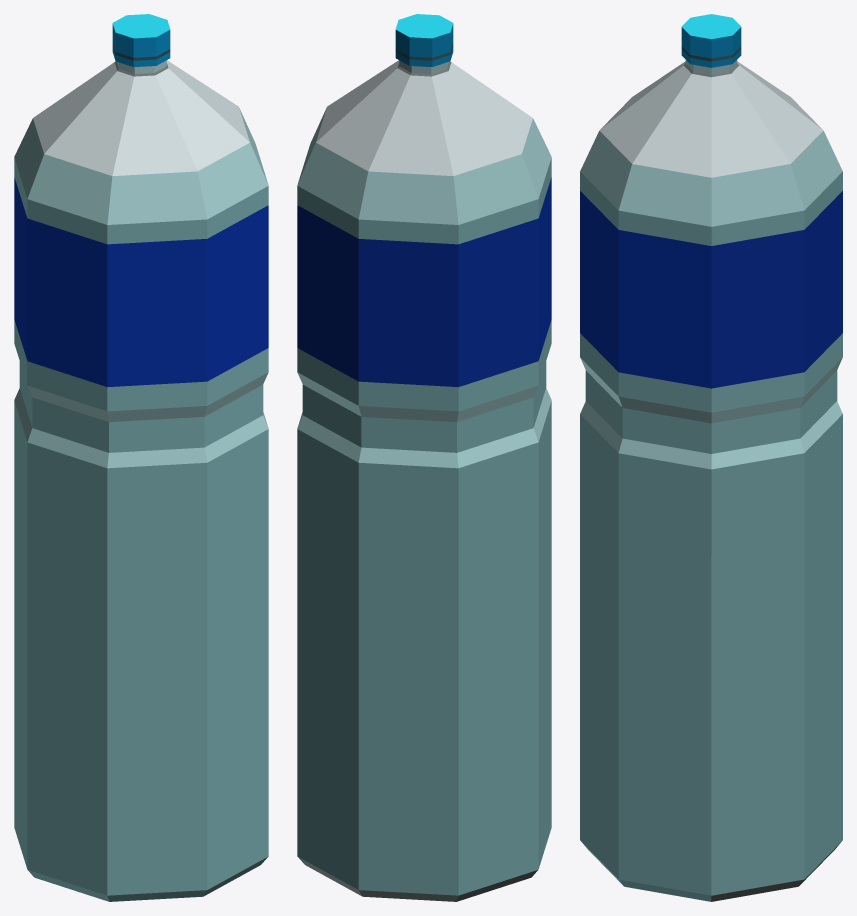
Rendered from water bottle.fbx.
3 views of the same model, side by side, from view 1: azimuth 30°, elevation 25°; view 2: azimuth 150°, elevation 25°; view 3: azimuth 270°, elevation 25° (orthographic).
Parts seen in each view (by area): view 1: water bottle; view 2: water bottle; view 3: water bottle.
Boxes of the visible parts, <box> form: water bottle: <box>14,14,268,901</box>; water bottle: <box>297,14,551,901</box>; water bottle: <box>580,14,842,901</box>.
Bounding box in the file's own units: 14.73 × 50.92 × 14.73.
